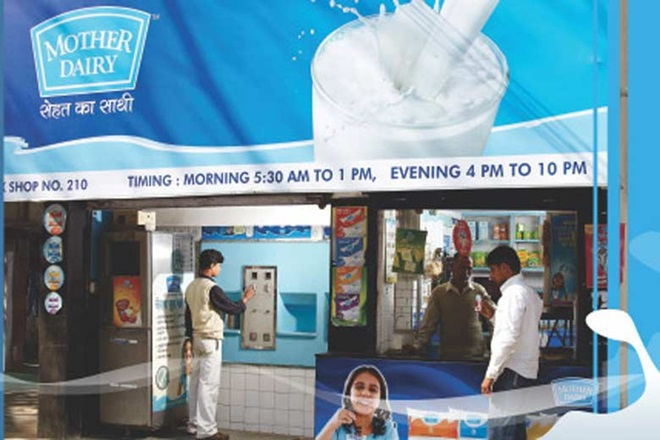Mother_Dairy: (15, 2, 171, 97)
